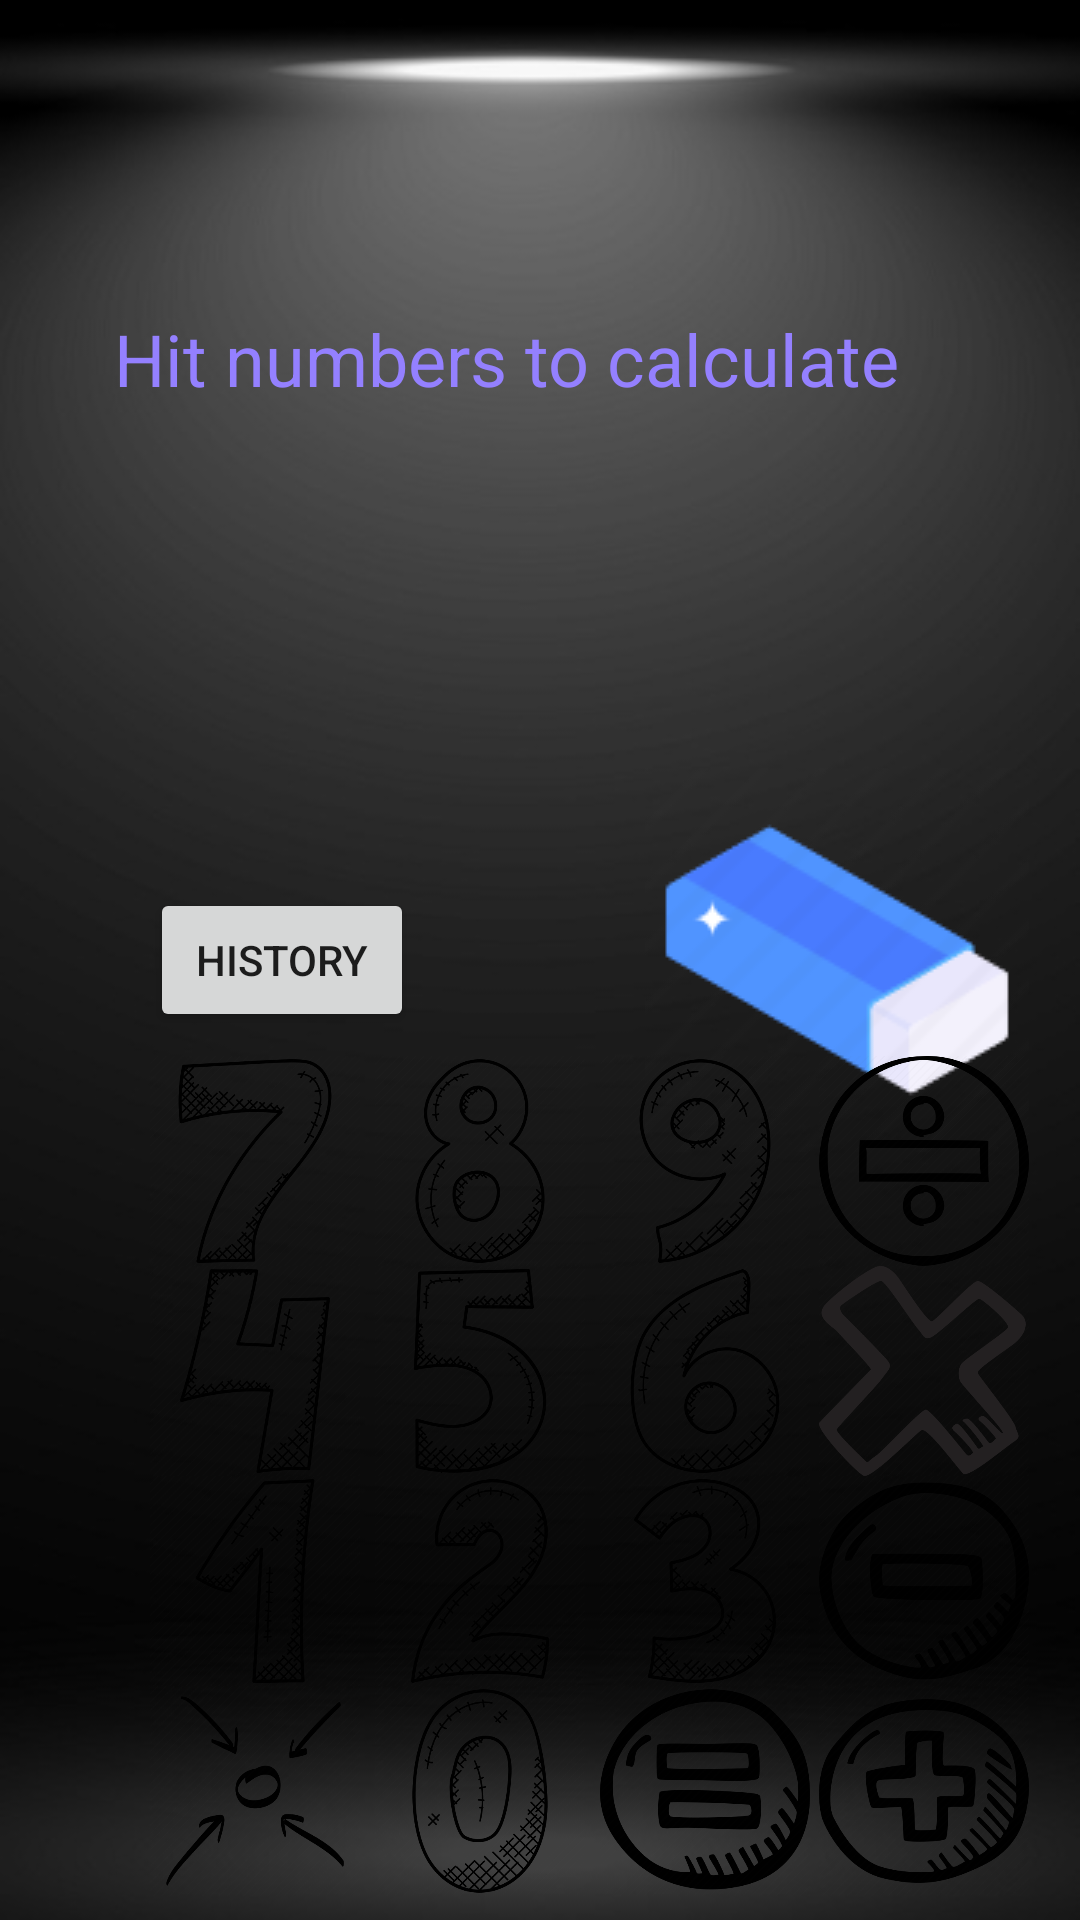

Named icons in this screenshot (1080 × 1920) and their centers, [x,y]:
dot: [255,1791]
equals: [705,1787]
plus: [924,1797]
